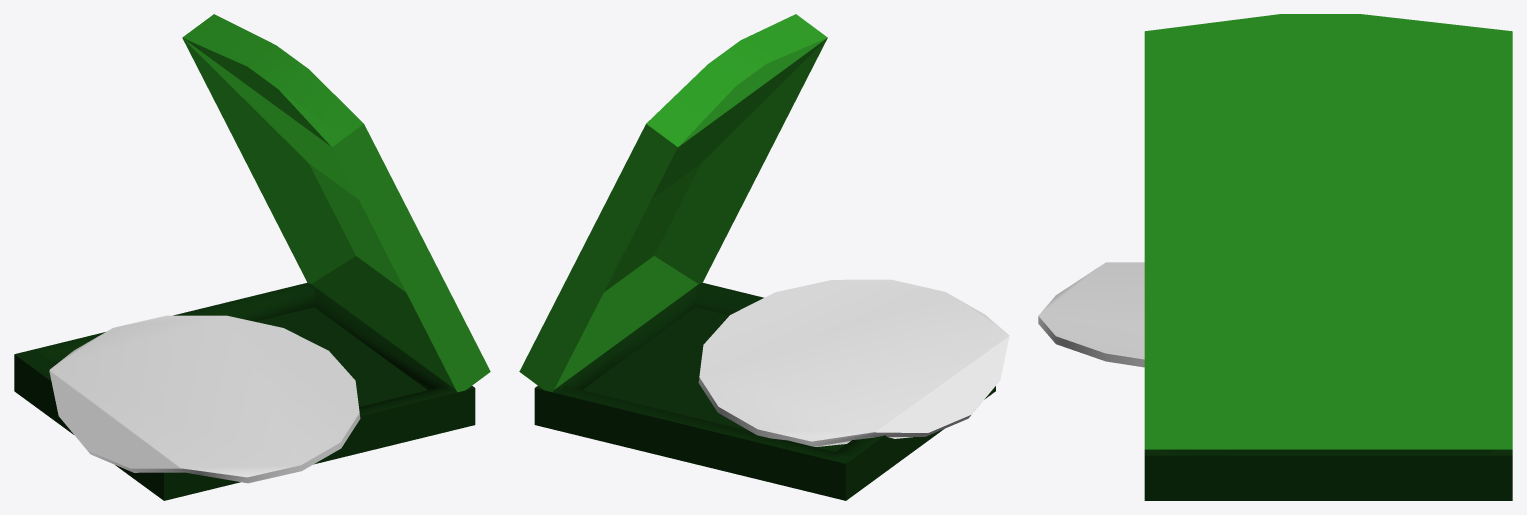
The model's file is powerup_cajaZ2aversion.FBX.
3 views of the same model, side by side, from view 1: azimuth 30°, elevation 25°; view 2: azimuth 150°, elevation 25°; view 3: azimuth 270°, elevation 25° (orthographic). The views are drawn at different scales.
Visible parts, largest first — view 1: cajasuperior, pizza, cajainferior; view 2: cajasuperior, pizza, cajainferior; view 3: cajasuperior, cajainferior, pizza.
Part boxes in pixels (bbox=[...]): cajasuperior: bbox=[182, 14, 490, 392]; pizza: bbox=[49, 315, 360, 483]; cajainferior: bbox=[14, 282, 475, 500]; cajasuperior: bbox=[519, 14, 827, 392]; pizza: bbox=[698, 279, 1009, 446]; cajainferior: bbox=[534, 282, 995, 500]; cajasuperior: bbox=[1144, 14, 1512, 449]; cajainferior: bbox=[1144, 449, 1512, 500]; pizza: bbox=[1038, 262, 1144, 367].
Bounding box in the file's own units: 26.29 × 24.38 × 24.93.
